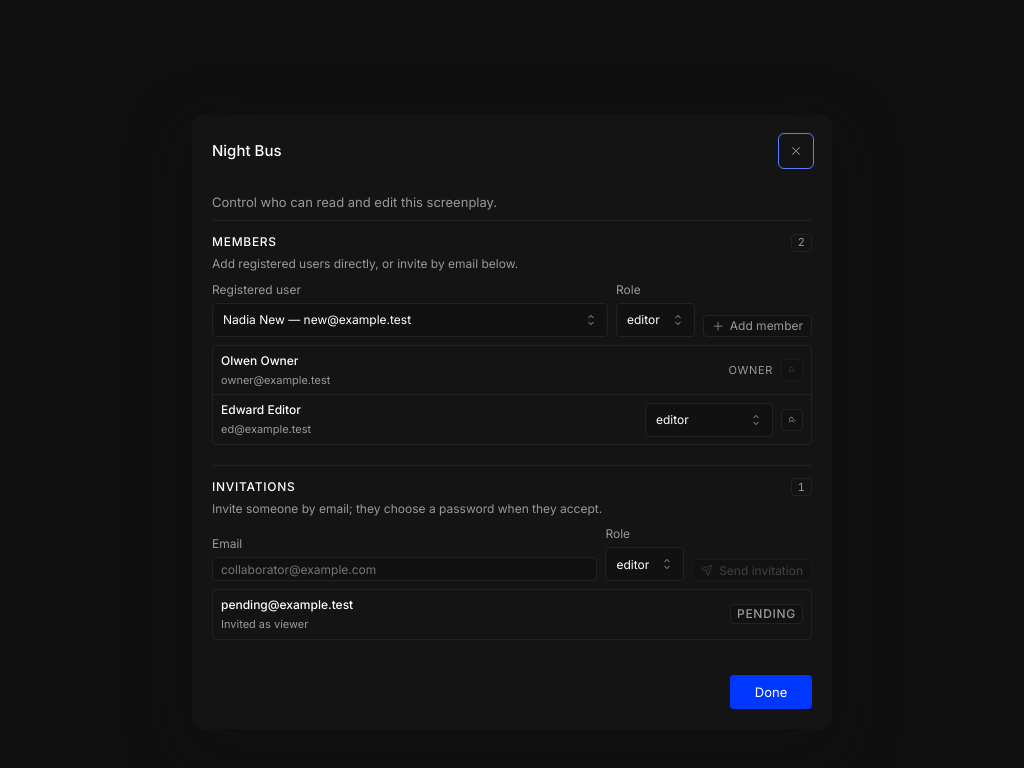
it: ScreenplayShareDialog › invites a collaborator by email and reveals the invitation link
The width and height of the screenshot is (1024, 768).
Check: the dialog "Night Bus" is shown, box [192,115,832,729]
Type "collaborator@example.test" into the field labelled "Email". click: [405, 569]
box: [212,557,597,581]
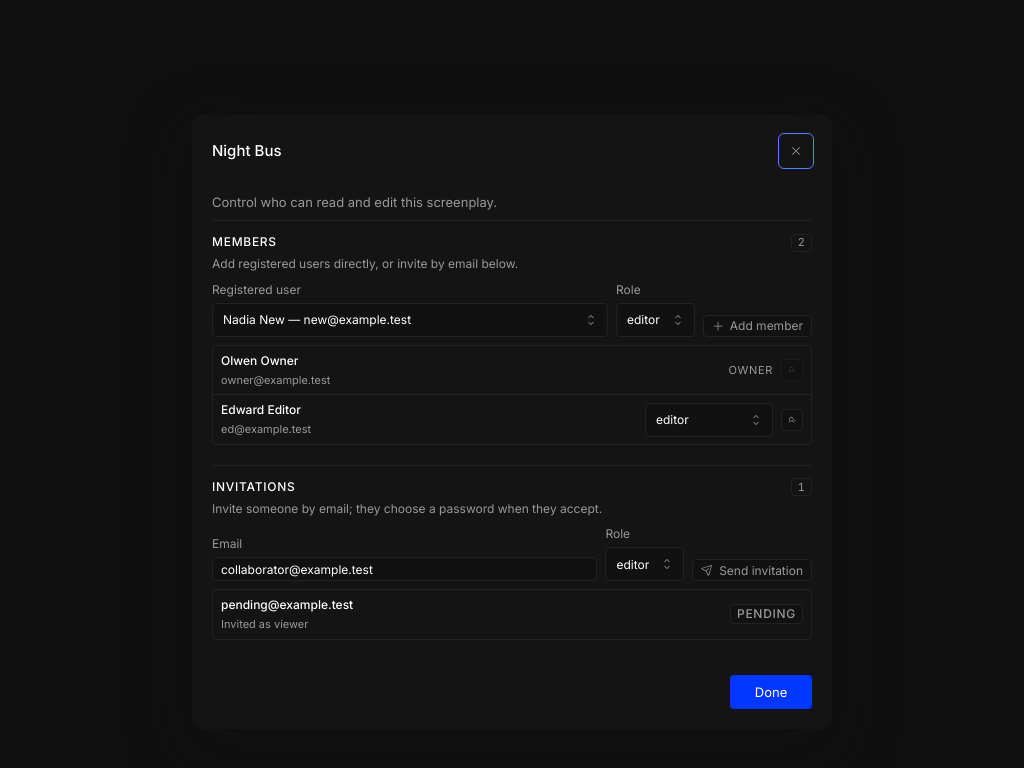
Click the button "Send invitation". click: [752, 570]
box: [692,559,812,581]
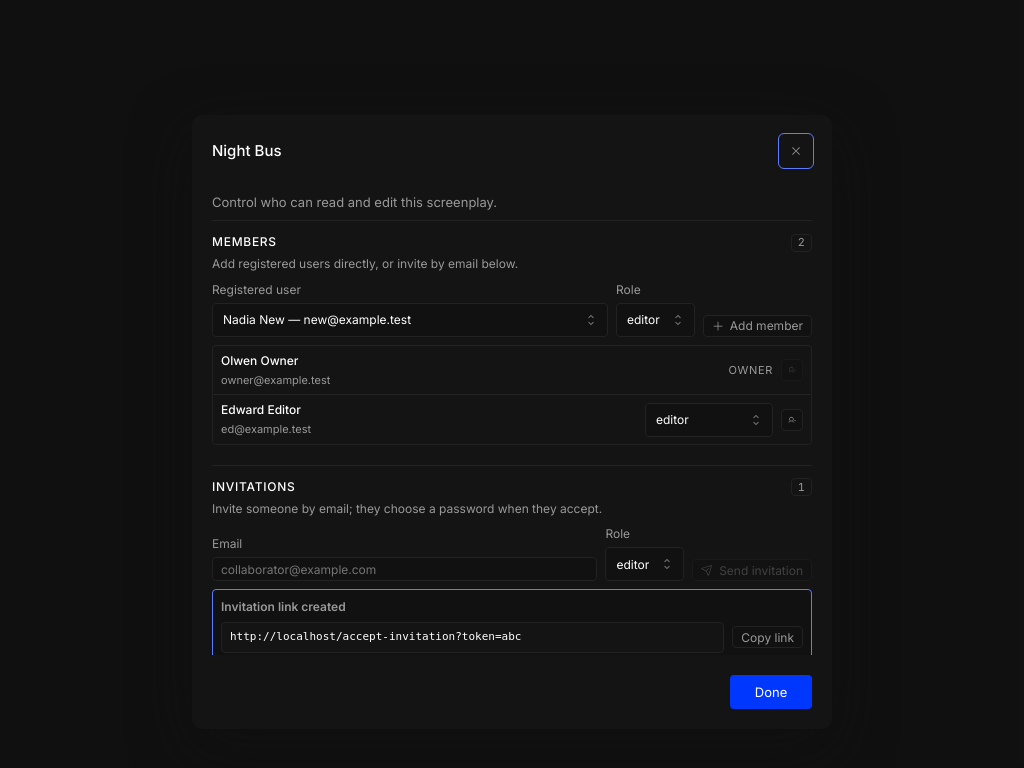
Check: the text "Invitation link created" is shown, box [221,599,346,614]
